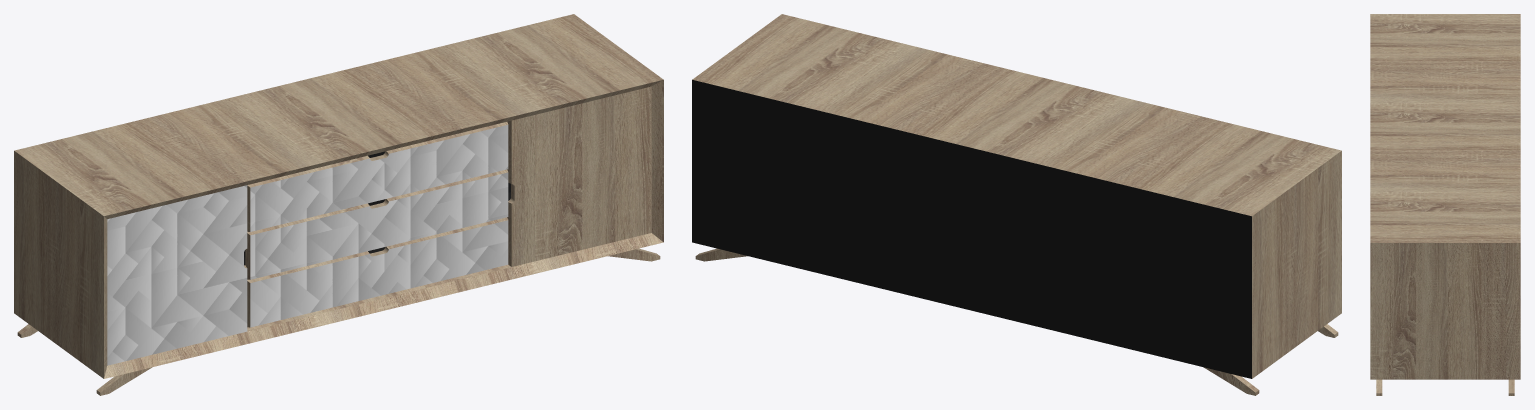
Rendered from tv_cabinet_1.gltf.
The picture shows the model from 3 angles, left to right: view 1: azimuth 30°, elevation 25°; view 2: azimuth 150°, elevation 25°; view 3: azimuth 270°, elevation 25°; orthographic projection. The views are drawn at different scales.
Parts seen in each view (by area): view 1: root; view 2: root; view 3: root.
Part boxes in pixels (left/top/right/bottom): root: left=14, top=14, right=663, bottom=395; root: left=692, top=14, right=1341, bottom=395; root: left=1370, top=14, right=1520, bottom=395.
Bounding box in the file's own units: 1.8 × 0.56 × 0.5.
Materials: 3 (2 with a texture image).
